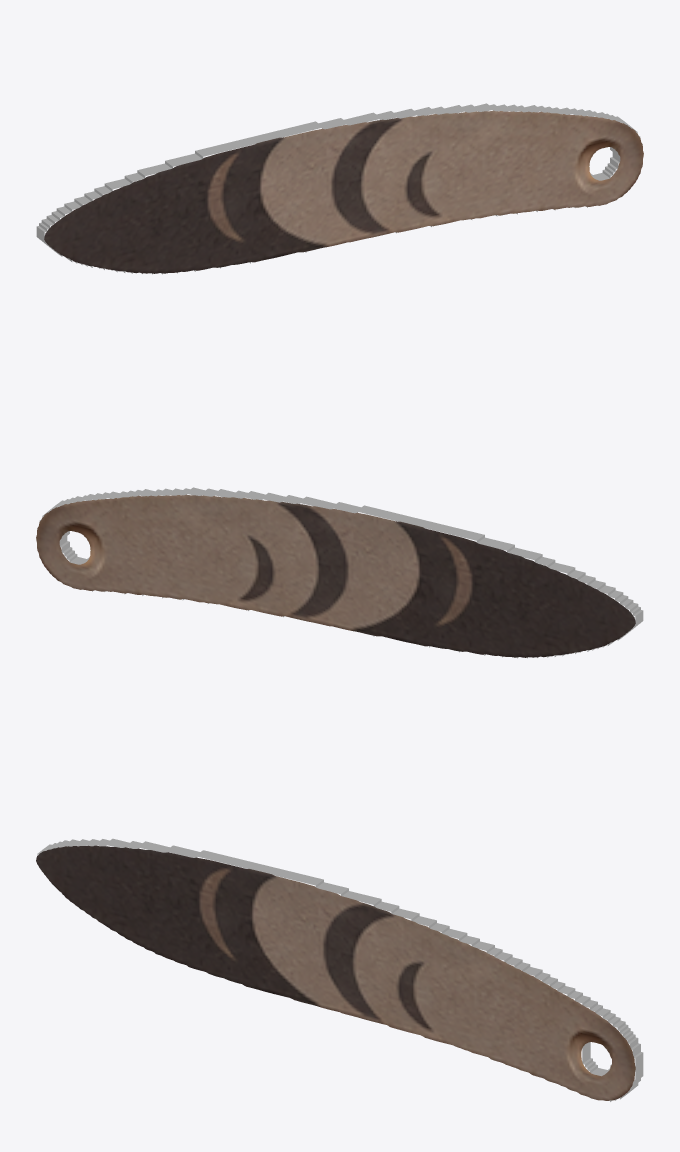
The model's file is FlightLeft01.glb.
3 views of the same model, one above another, from view 1: azimuth 30°, elevation 25°; view 2: azimuth 150°, elevation 25°; view 3: azimuth 330°, elevation 25° (orthographic).
Parts seen in each view (by area): view 1: PaperVolume; view 2: PaperVolume; view 3: PaperVolume.
Boxes of the visible parts, x1,y1,x2,y2 form: PaperVolume: [36, 103, 643, 274]; PaperVolume: [36, 487, 643, 658]; PaperVolume: [36, 838, 643, 1101].
Size of the model in its own units: 3.64 by 1.04 by 0.08.
3 materials, 2 textured.
